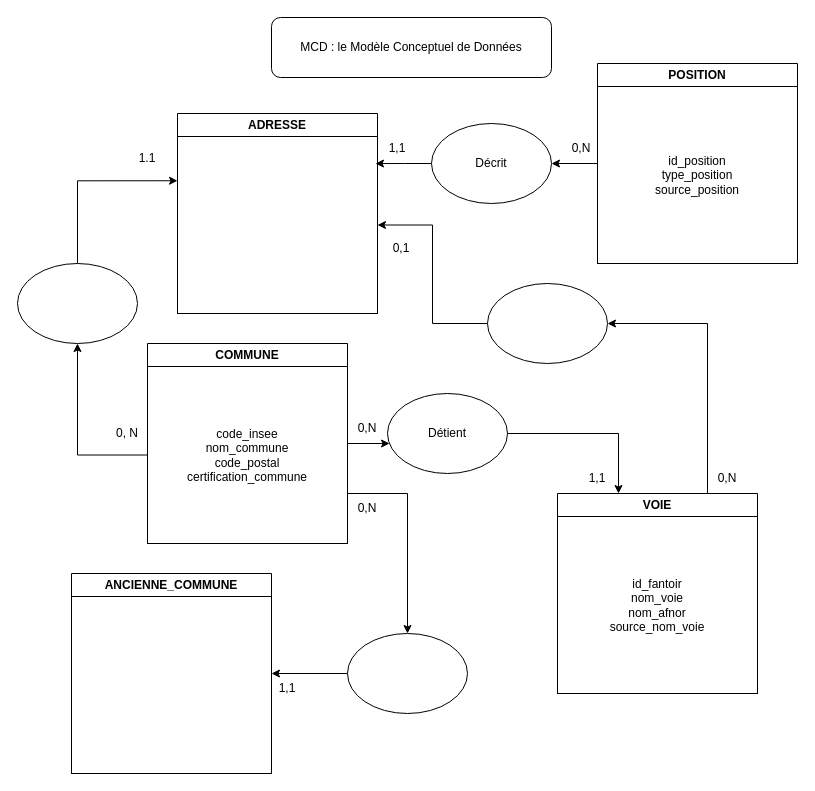
The diagram is 815 pixels wide and 791 high, and some of its shapes have lost their labels. Each missing label, with the centre of its shape:
code_insee_ancienne_commune nom_ancienne_commune: the point at 171,685
Dessert: the point at 547,323
id numéro rep alias x y lon lat cad_parcelles: the point at 277,225
Possède: the point at 77,303
Succède: the point at 407,673
